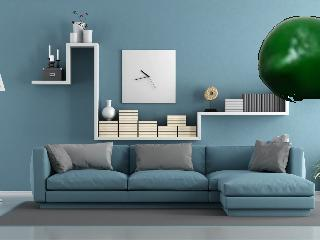lime: (258, 15, 320, 104)
